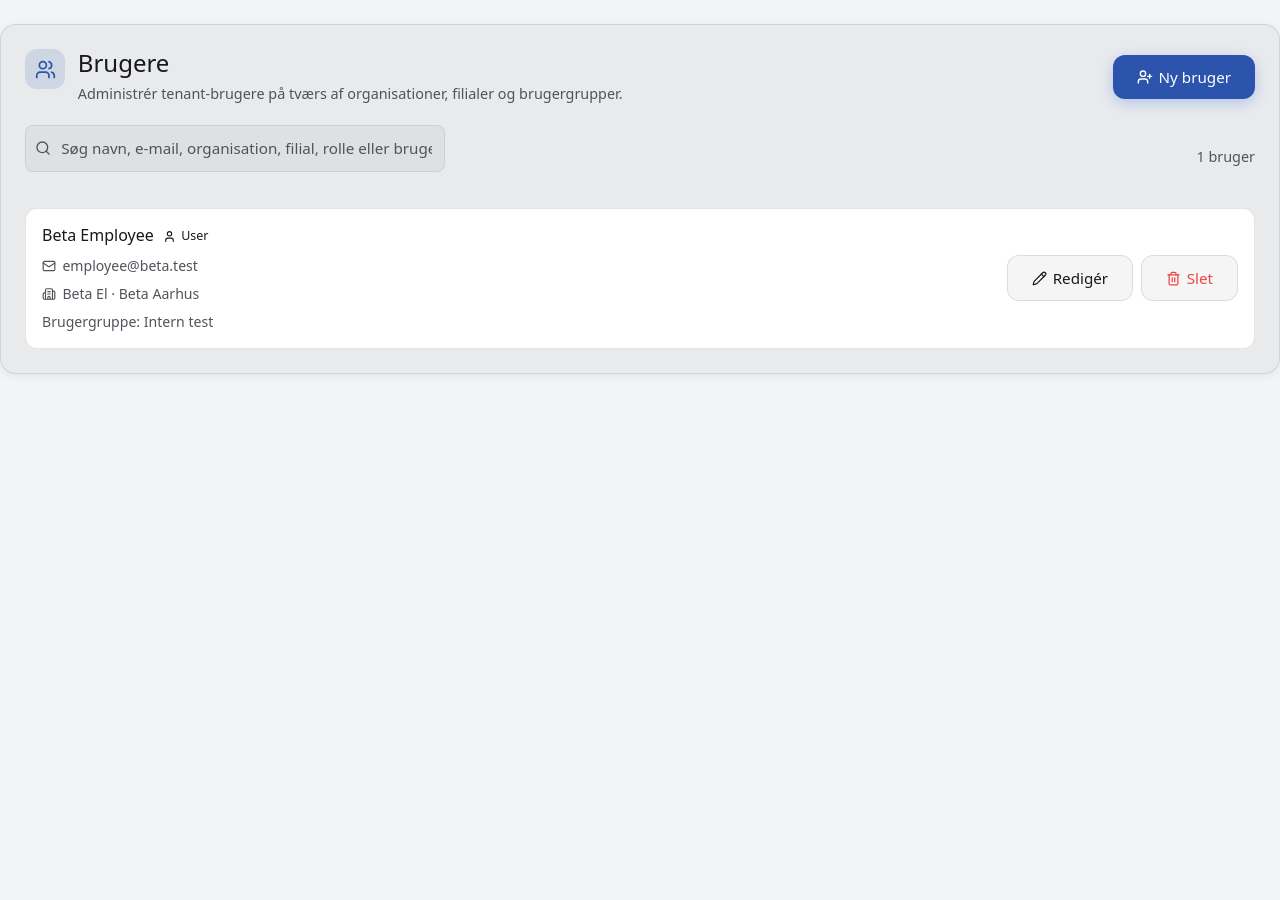
Test: SuperAdminUsersPanel › defaults a new superadmin-created user to the customer audience
Expected: the text "Beta Employee" is shown, [42,223,154,249]
Click the button "Ny bruger" at (1184, 77), box [1113,55,1255,99]
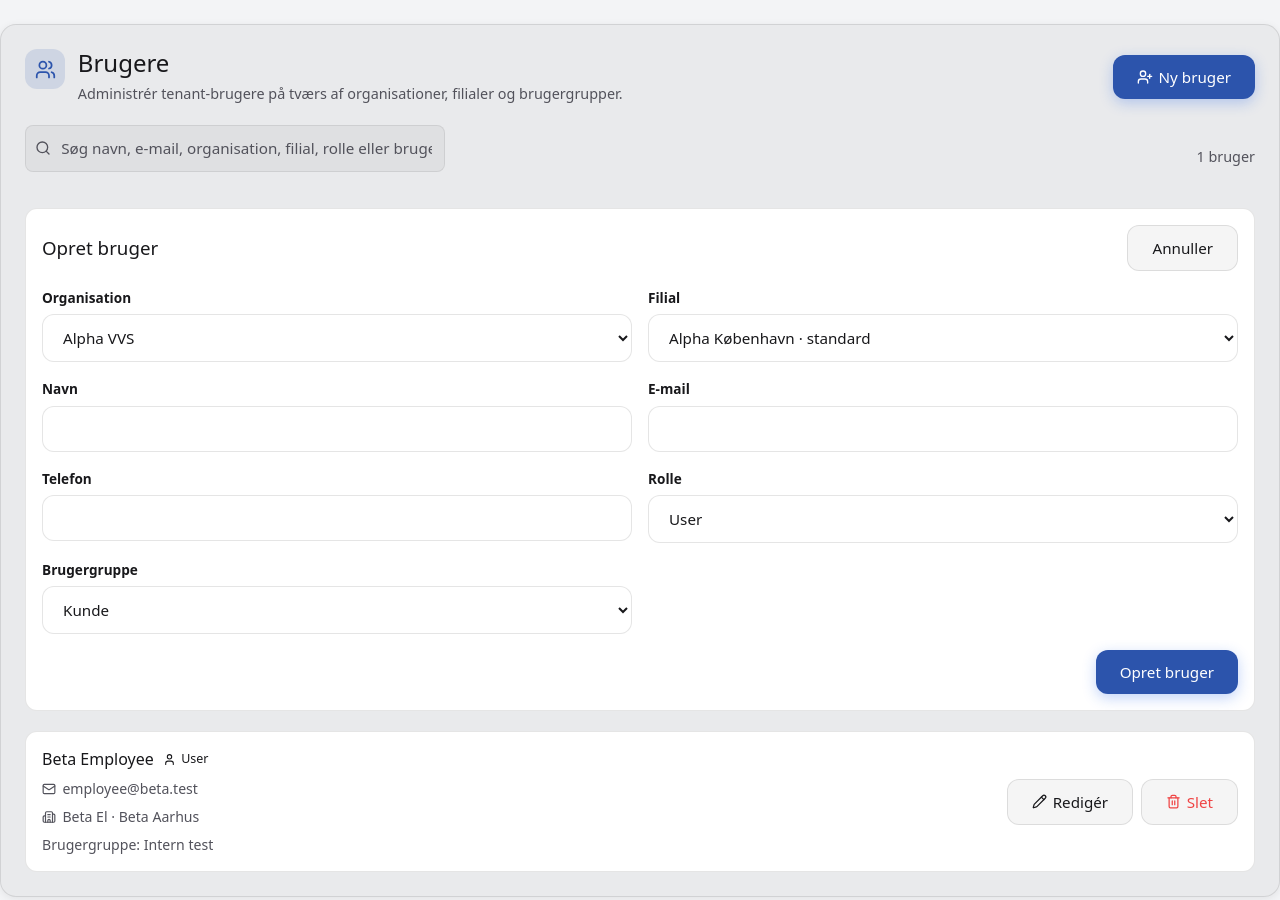
Now the dropdown labelled "Brugergruppe" shows "Kunde", box [42,586,632,634]
